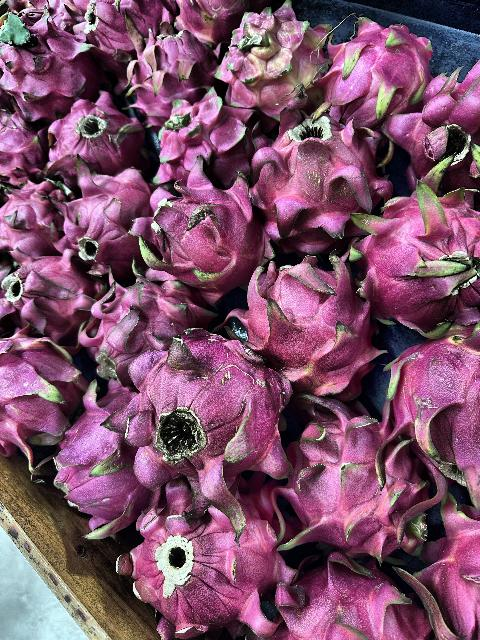buah-naga-belum-matang: (224, 11, 320, 108)
buah-naga-matang: (122, 330, 292, 520), (123, 489, 294, 635), (281, 400, 423, 550), (236, 254, 374, 392), (386, 316, 480, 497), (362, 180, 480, 314), (251, 110, 370, 242), (273, 552, 428, 640), (144, 180, 270, 284), (56, 383, 144, 522), (325, 6, 427, 122), (0, 324, 80, 461), (412, 488, 480, 640), (392, 73, 480, 187), (92, 274, 196, 370), (57, 163, 151, 263), (149, 98, 255, 182), (0, 18, 98, 108), (121, 21, 211, 111), (48, 102, 146, 174), (0, 255, 88, 333), (0, 176, 68, 258), (78, 1, 160, 52), (1, 110, 46, 180), (173, 0, 239, 40)
